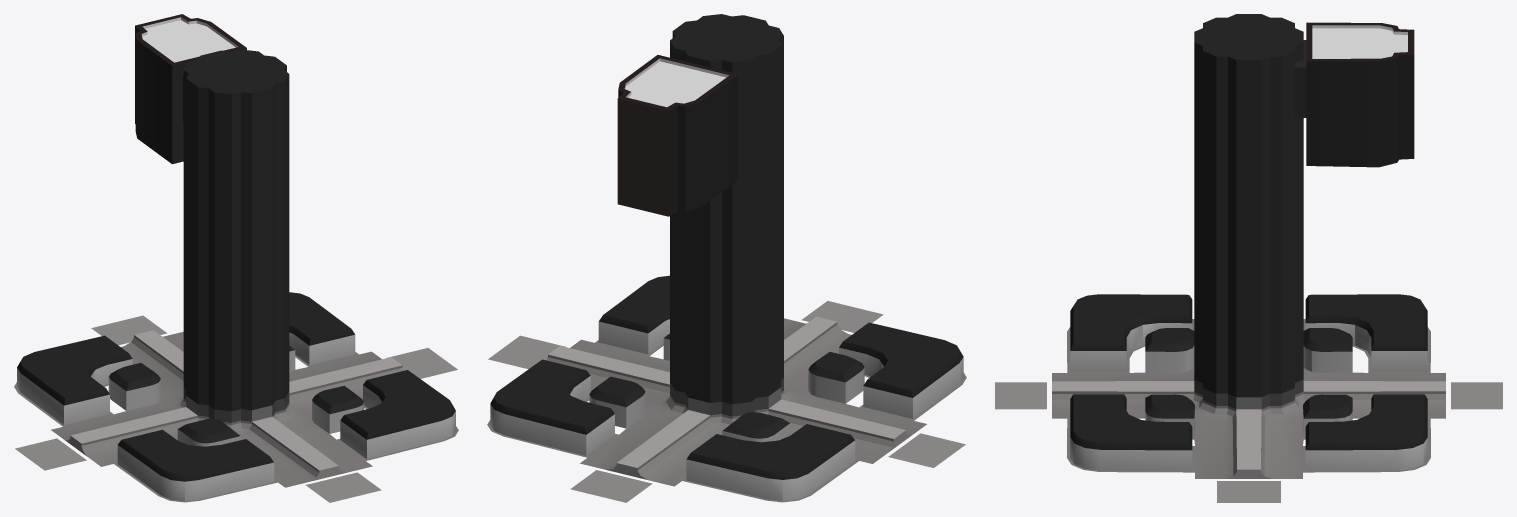
File: Arena_top.fbx
The picture shows the model from 3 angles, left to right: view 1: azimuth 30°, elevation 25°; view 2: azimuth 150°, elevation 25°; view 3: azimuth 270°, elevation 25°; orthographic projection. The views are drawn at different scales.
Parts seen in each view (by area): view 1: top; view 2: top; view 3: top.
Part boxes in pixels (left/top/right/bottom): top: left=14, top=14, right=458, bottom=502; top: left=487, top=14, right=966, bottom=502; top: left=995, top=14, right=1502, bottom=502.
Size of the model in its own units: 5839 by 4551 by 5839.
